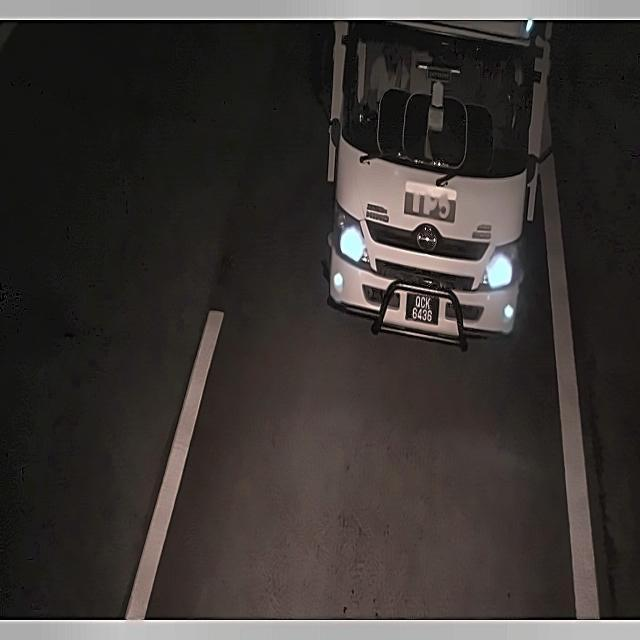car: (407, 288, 438, 331)
